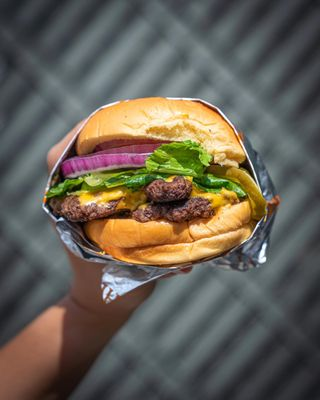soup: (42, 96, 268, 263)
